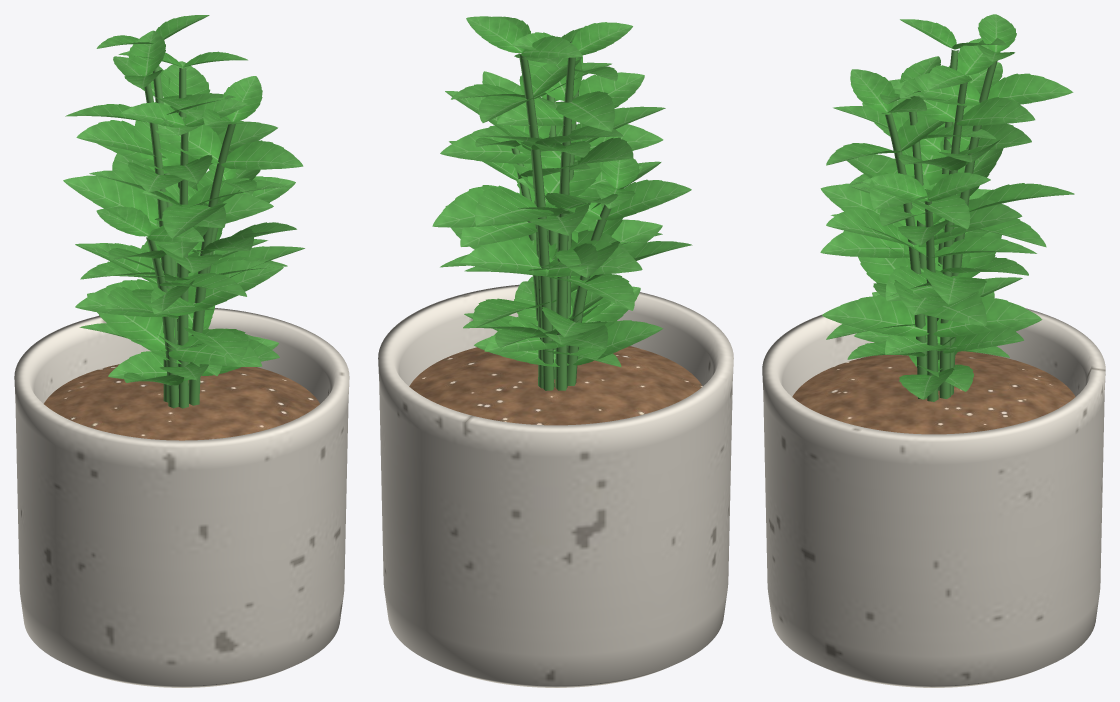
Rendered from herbs.glb.
The picture shows the model from 3 angles, left to right: view 1: azimuth 30°, elevation 25°; view 2: azimuth 150°, elevation 25°; view 3: azimuth 270°, elevation 25°; orthographic projection. The views are drawn at different scales.
Parts seen in each view (by area): view 1: piece-0, piece-1, piece-86, piece-43, piece-64, piece-82, piece-52, piece-53, piece-33, piece-83, piece-65, piece-80 (+28 smaller); view 2: piece-0, piece-1, piece-86, piece-41, piece-31, piece-58, piece-46, piece-81, piece-19, piece-50, piece-37, piece-70 (+36 smaller); view 3: piece-0, piece-1, piece-86, piece-5, piece-4, piece-34, piece-57, piece-22, piece-79, piece-85, piece-66, piece-31 (+36 smaller).
Part boxes in pixels (box(x1,y1,x2,y2)): piece-0: box(14, 308, 349, 687); piece-1: box(44, 364, 319, 440); piece-86: box(144, 65, 235, 408); piece-43: box(63, 175, 158, 230); piece-64: box(188, 260, 283, 311); piece-82: box(221, 140, 303, 169); piece-52: box(168, 328, 262, 366); piece-53: box(87, 292, 174, 350); piece-33: box(76, 120, 165, 157); piece-83: box(148, 117, 222, 163); piece-65: box(75, 279, 180, 316); piece-80: box(162, 203, 226, 238); piece-0: box(378, 284, 733, 687); piece-1: box(409, 346, 702, 425); piece-86: box(511, 53, 611, 390); piece-41: box(460, 238, 561, 276); piece-31: box(475, 187, 553, 225); piece-58: box(604, 179, 691, 220); piece-46: box(555, 91, 614, 131); piece-81: box(440, 125, 531, 163); piece-19: box(432, 185, 534, 227); piece-50: box(573, 320, 663, 365); piece-37: box(466, 16, 523, 52); piece-70: box(578, 72, 644, 108); piece-0: box(762, 308, 1105, 687); piece-1: box(792, 351, 1075, 434); piece-86: box(885, 49, 997, 401); piece-5: box(822, 295, 929, 336); piece-4: box(933, 296, 1040, 337); piece-34: box(987, 73, 1073, 106); piece-57: box(820, 230, 909, 258); piece-22: box(956, 97, 1035, 125); piece-79: box(826, 207, 916, 248); piece-85: box(850, 69, 894, 112); piece-66: box(934, 198, 1022, 239); piece-31: box(968, 183, 1074, 211).
Bounding box in the file's own units: 0.161 × 0.3074 × 0.161.
4 materials, 3 textured.
